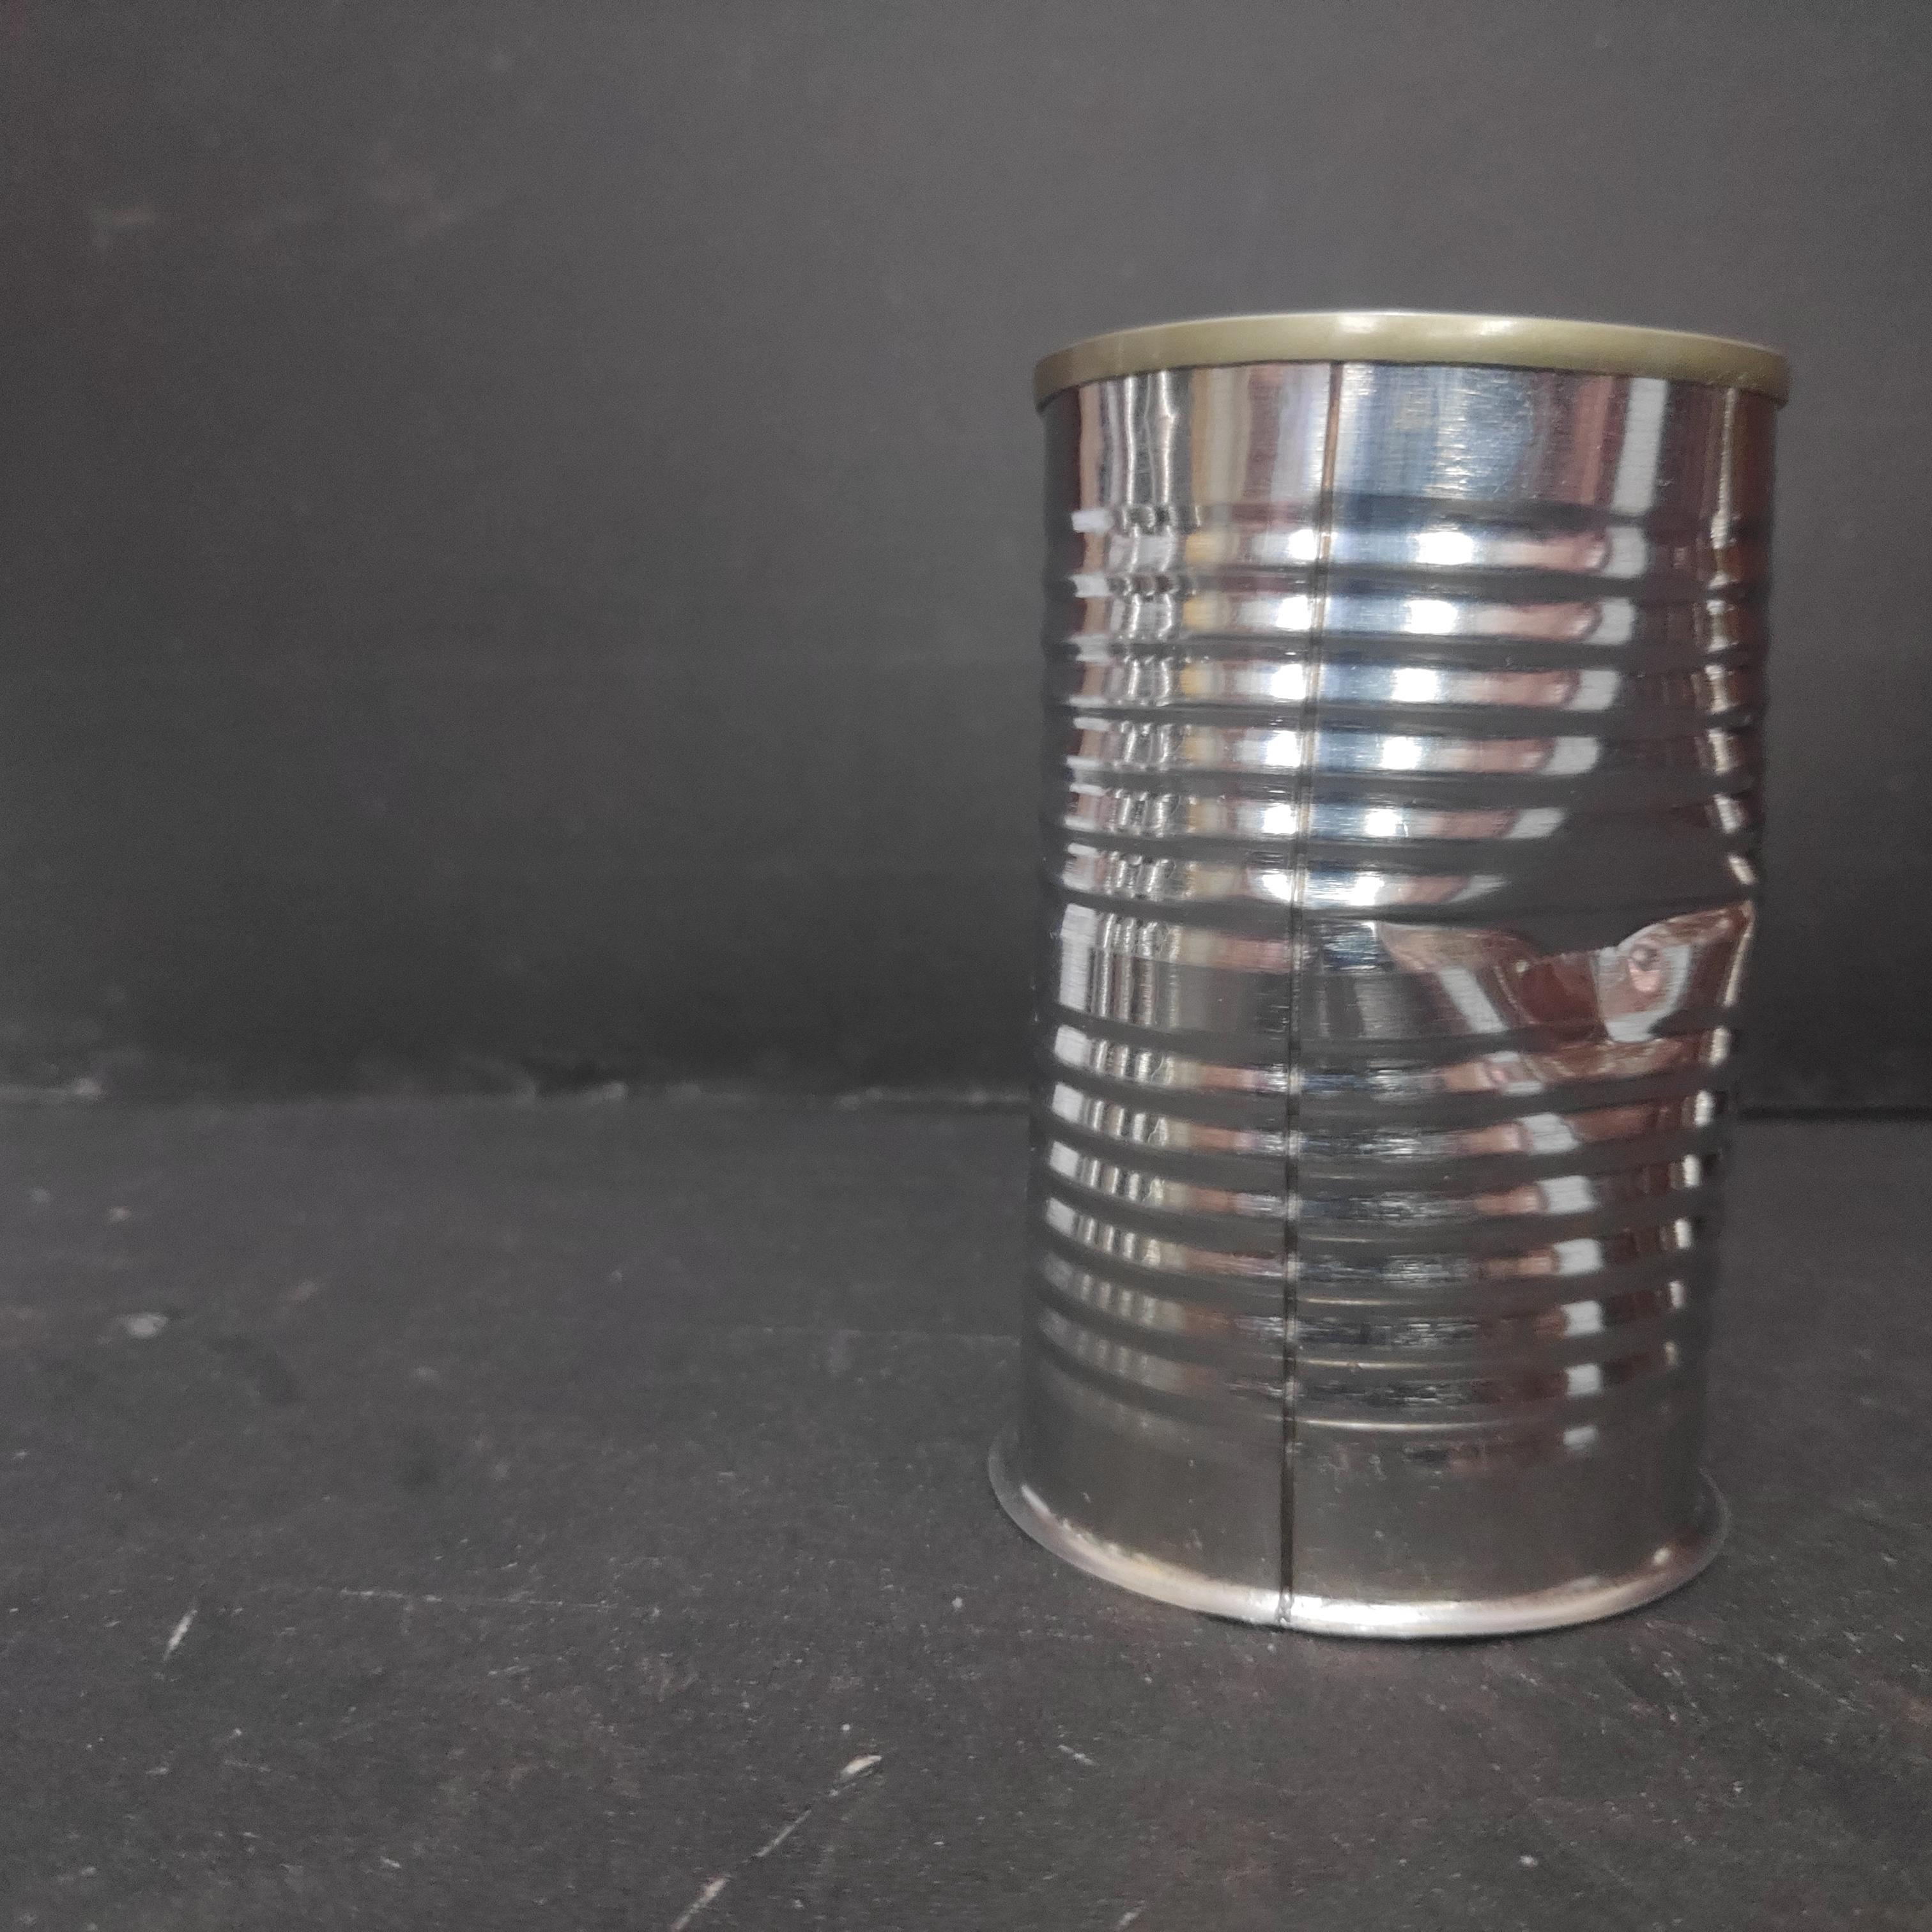Minor Defect: (988, 301, 1807, 1652)
